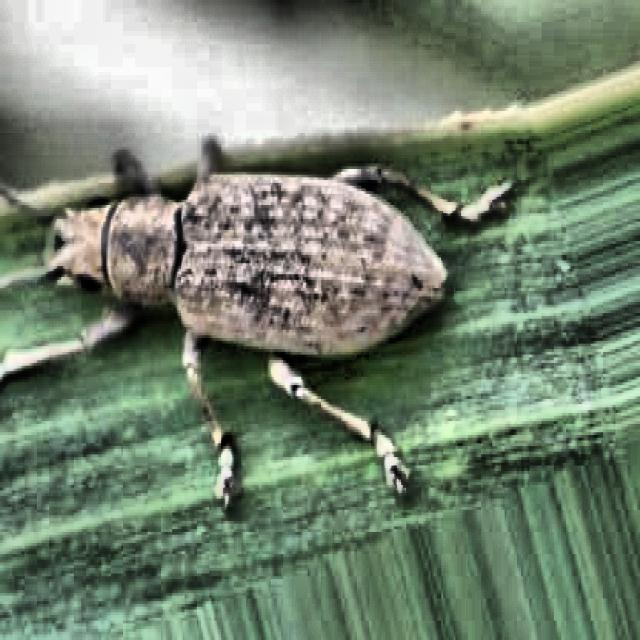Stink bug: (4, 89, 497, 462)
